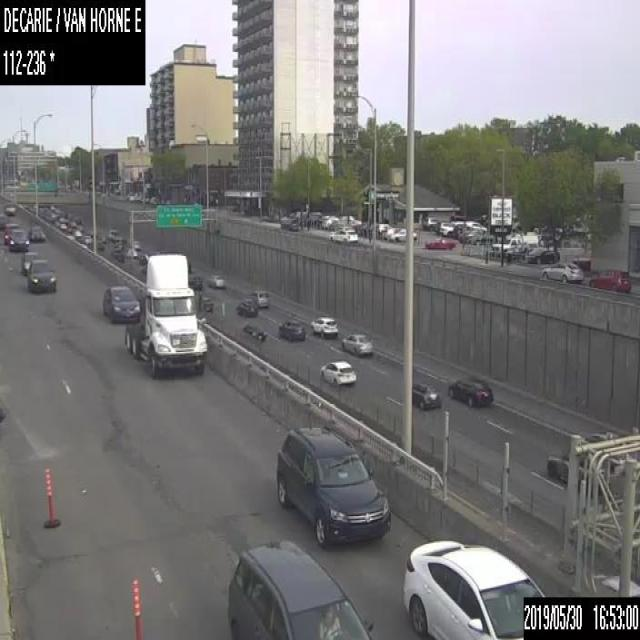construction: (41, 467, 58, 528), (131, 576, 143, 639)
vehicle: (401, 534, 547, 638), (226, 538, 374, 638), (274, 424, 392, 548), (125, 253, 206, 376), (544, 446, 606, 496), (101, 284, 140, 323), (448, 373, 492, 407), (587, 267, 630, 292), (27, 258, 56, 293), (539, 259, 584, 281), (319, 359, 356, 385), (412, 379, 440, 408), (340, 332, 372, 356), (492, 236, 528, 254), (310, 315, 336, 338), (278, 317, 305, 339), (526, 246, 560, 262), (239, 322, 266, 342), (442, 214, 466, 235), (578, 430, 612, 444), (8, 228, 28, 250), (327, 226, 358, 240), (425, 236, 457, 249), (235, 298, 258, 316), (388, 228, 417, 242), (21, 250, 37, 274), (3, 222, 20, 244), (28, 224, 45, 242), (250, 289, 268, 306), (466, 220, 486, 232), (208, 274, 225, 288), (421, 216, 437, 230), (280, 215, 297, 228), (189, 273, 202, 290), (200, 295, 213, 311), (436, 222, 449, 234), (4, 202, 15, 214), (0, 212, 6, 228)
